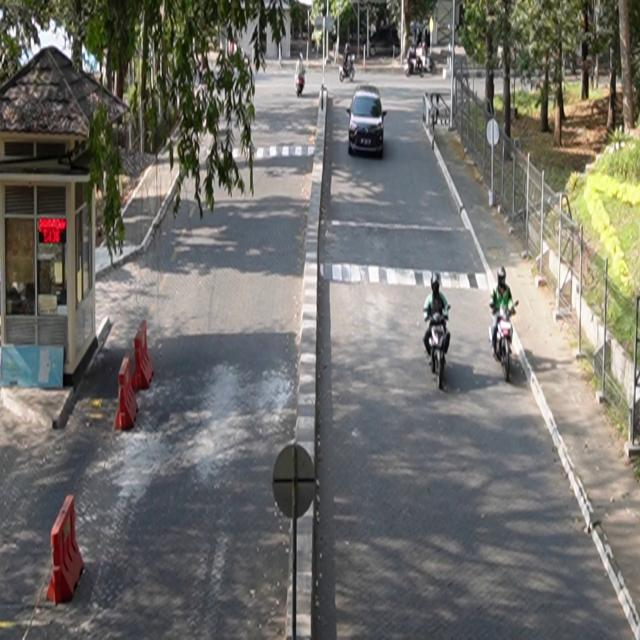car: (347, 85, 388, 159)
